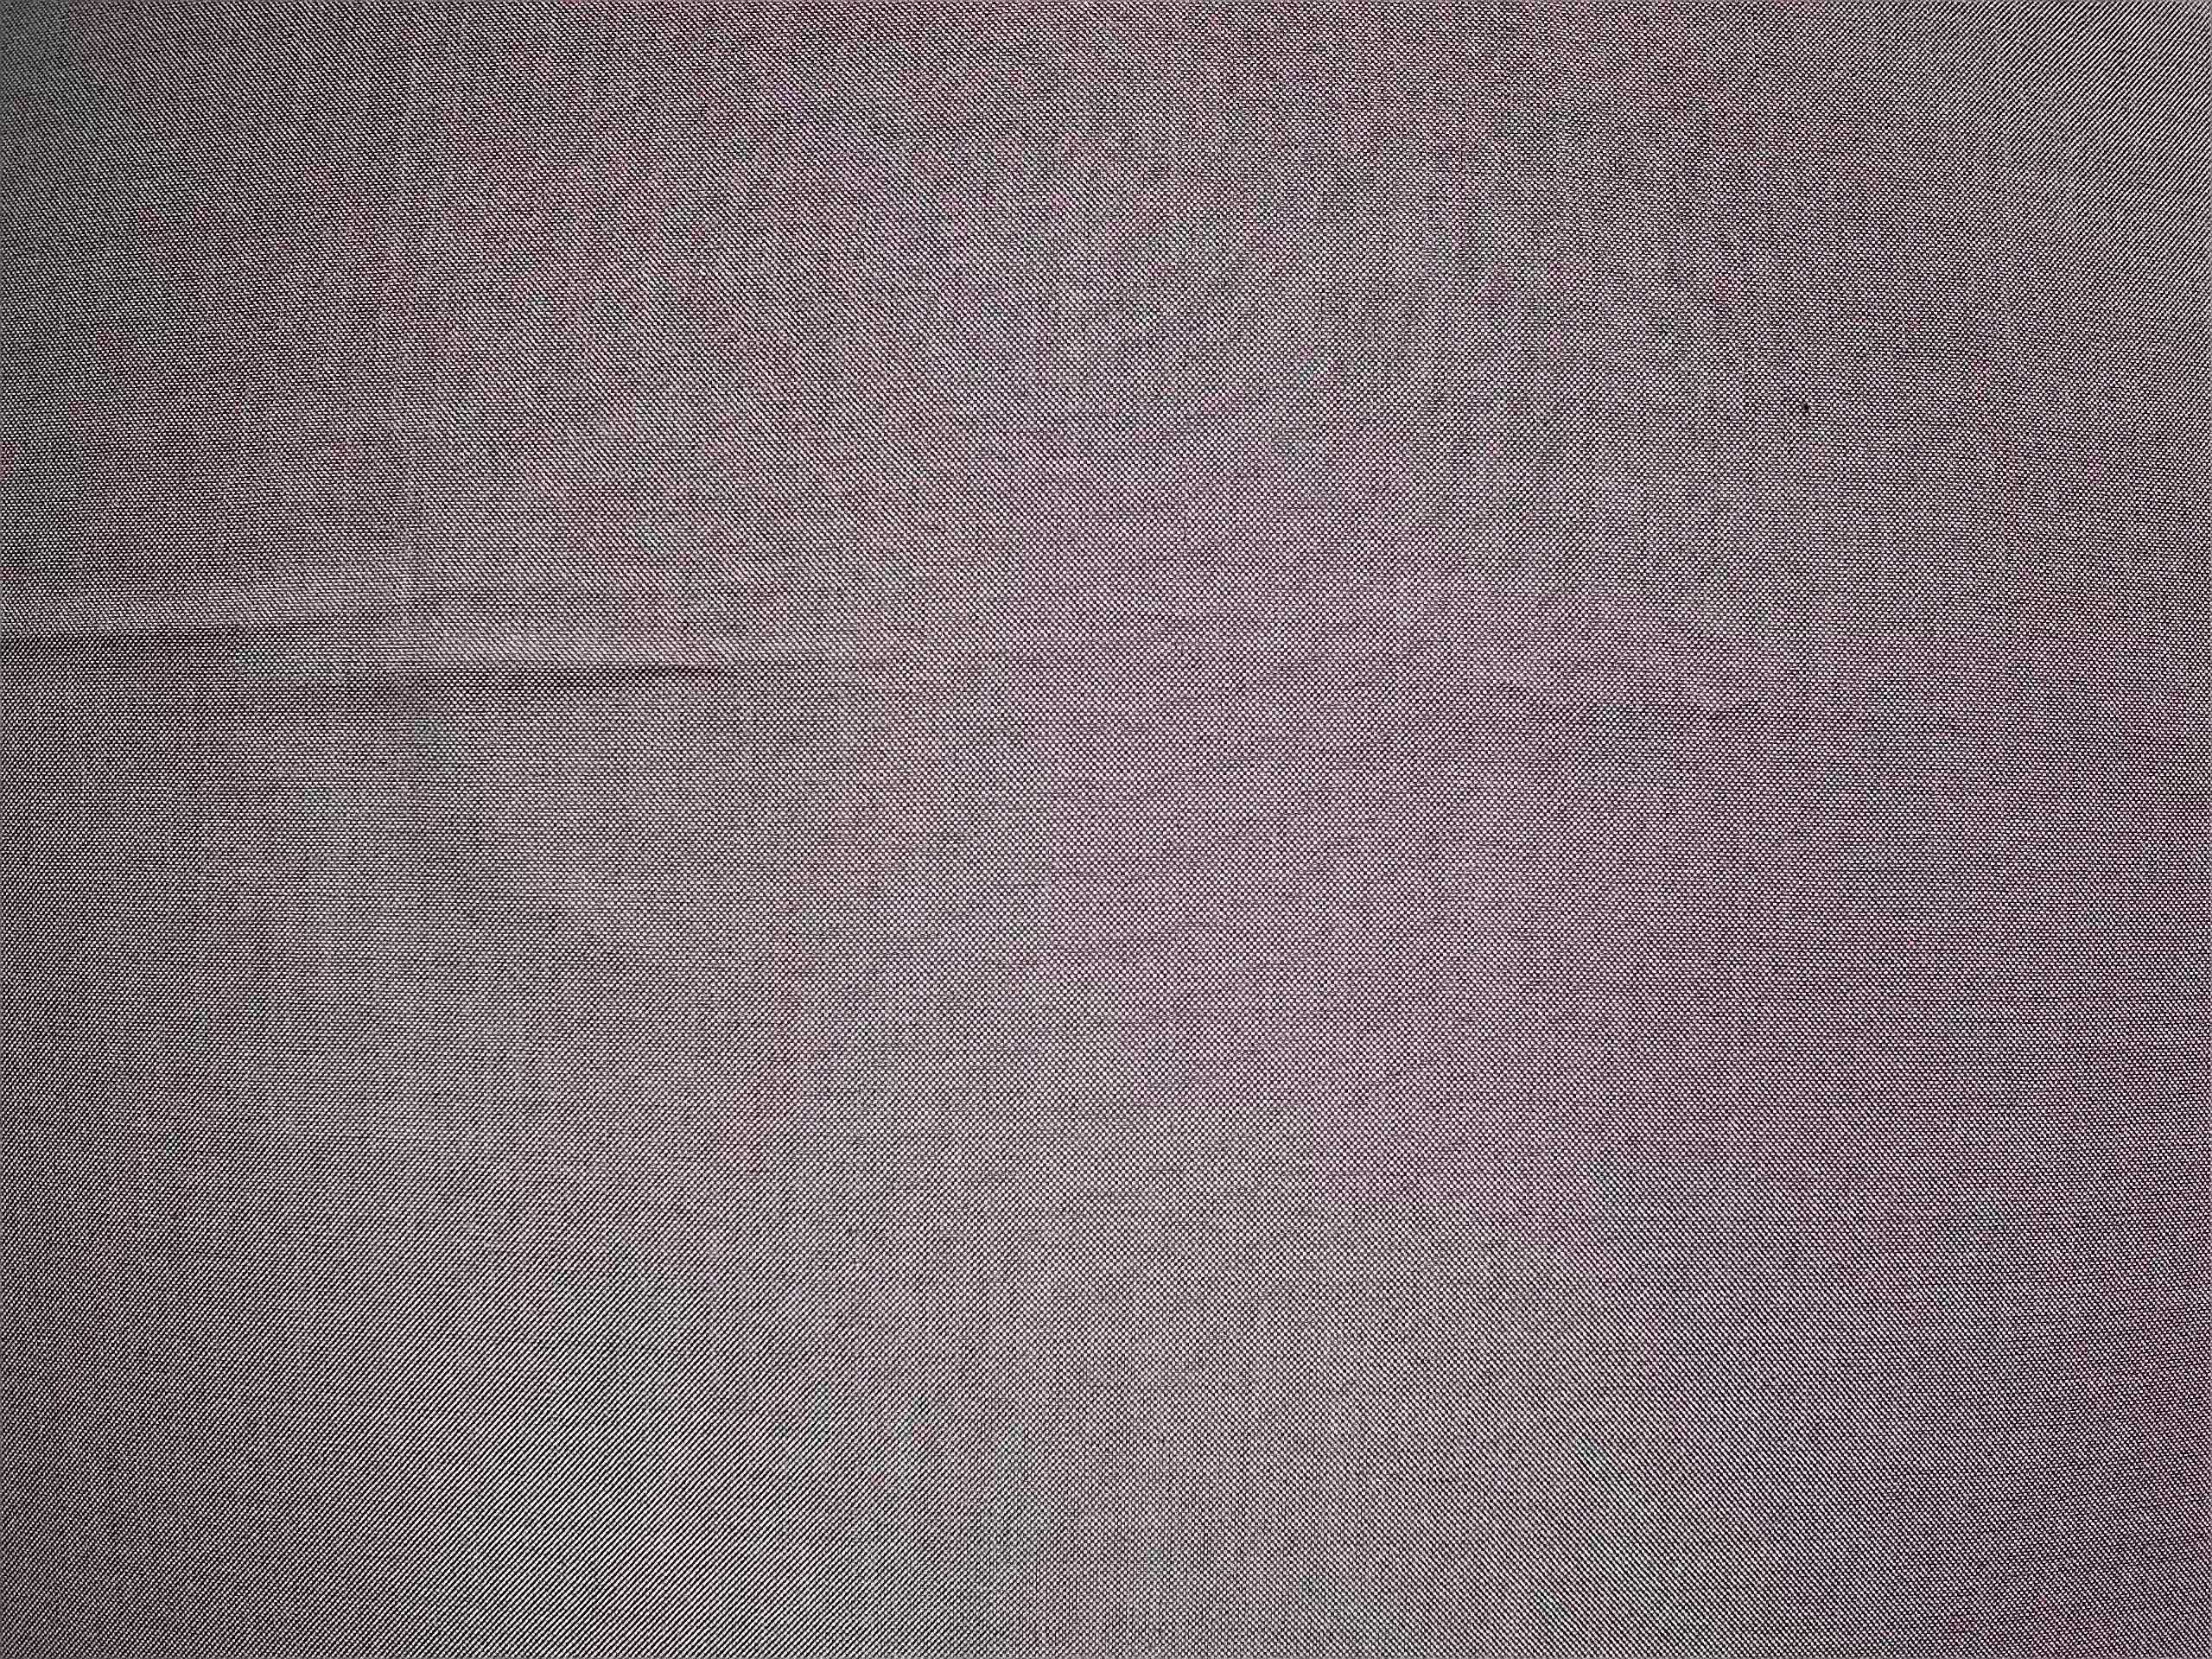jumps: (1784, 385, 1828, 423)
